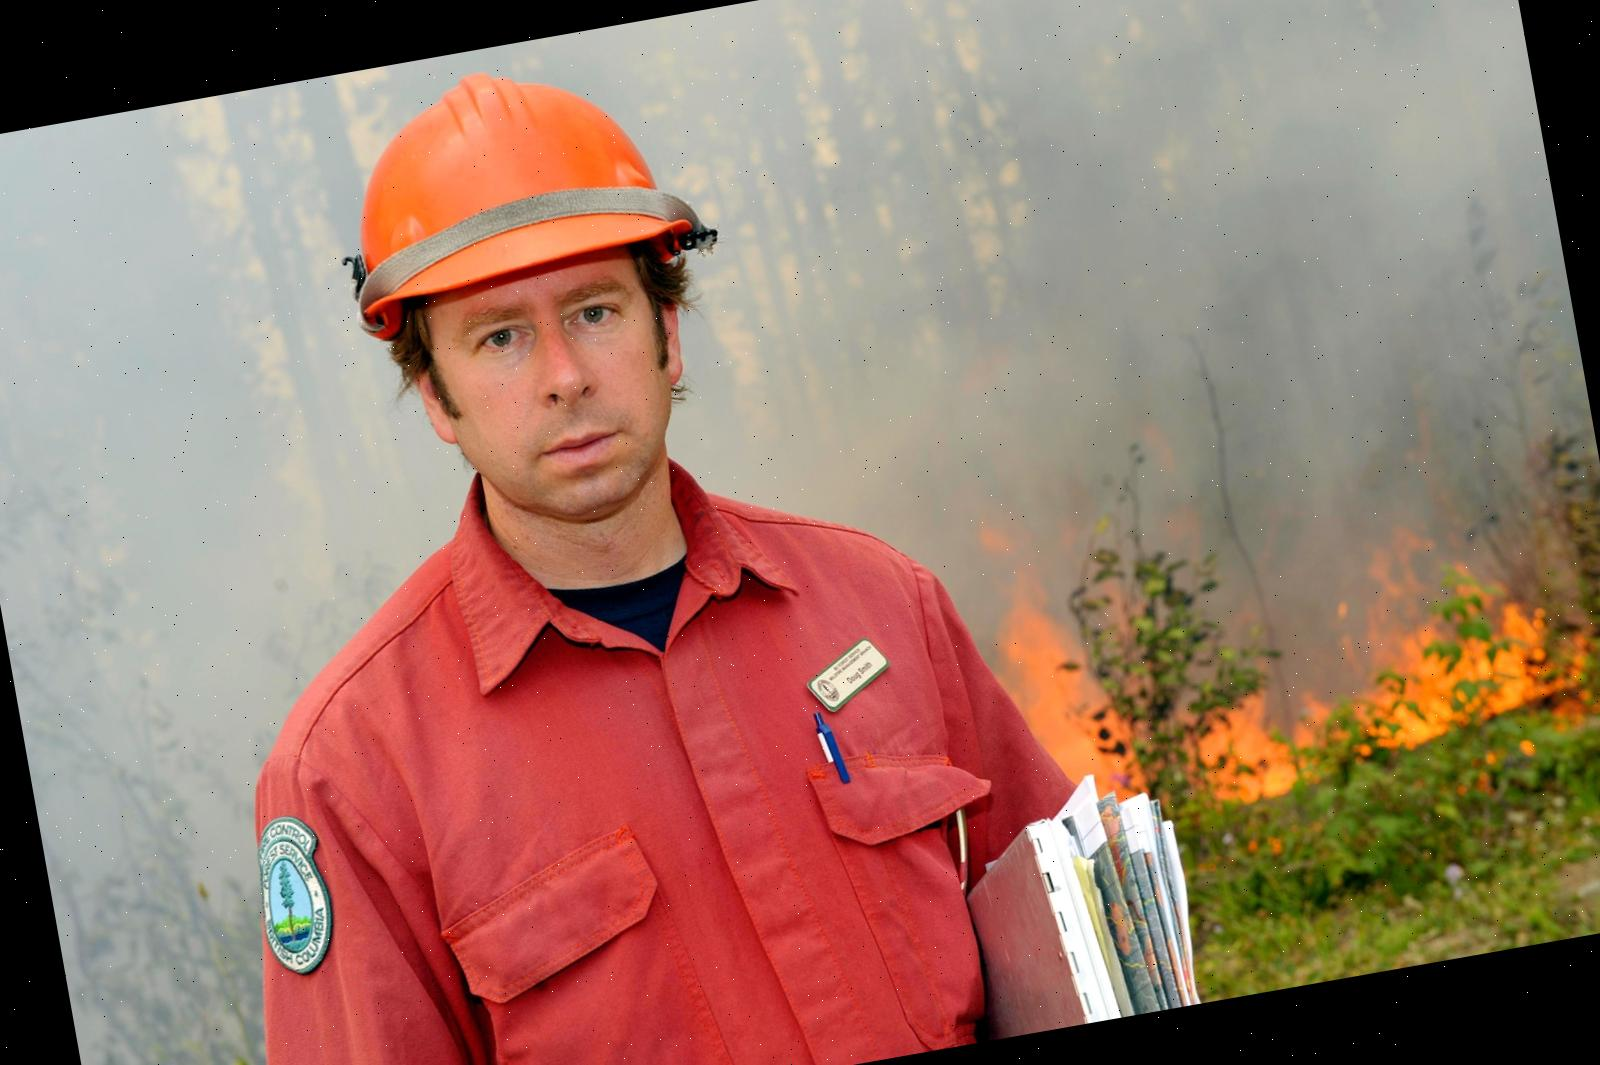helmet: (313, 44, 731, 345)
wear: (170, 467, 1027, 1065)
